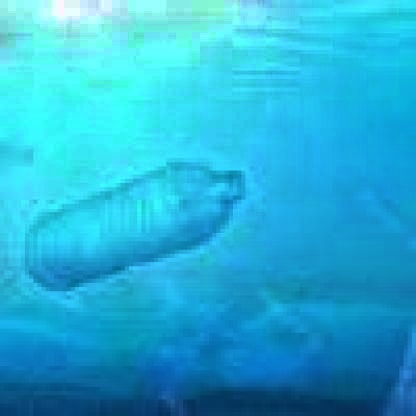pbottle: (12, 154, 254, 299)
